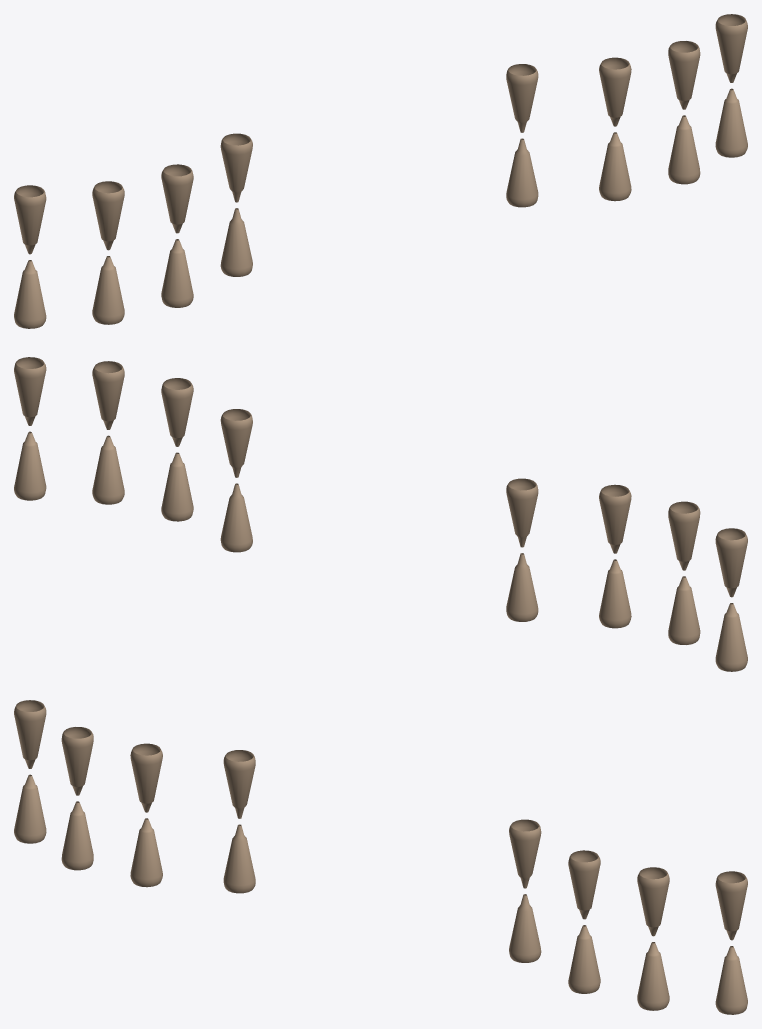
Rendered from Level1-4.fbx.
The picture shows the model from 3 angles, top to bottom: view 1: azimuth 30°, elevation 25°; view 2: azimuth 150°, elevation 25°; view 3: azimuth 330°, elevation 25°; orthographic projection.
Visible parts, largest first — view 1: Level1-0.1035; view 2: Level1-0.1035; view 3: Level1-0.1035.
Boxes of the visible parts, left/top/right/bottom form: Level1-0.1035: left=14, top=14, right=747, bottom=328; Level1-0.1035: left=14, top=357, right=747, bottom=671; Level1-0.1035: left=14, top=700, right=747, bottom=1014.
Size of the model in its own units: 740 by 127 by 58.
